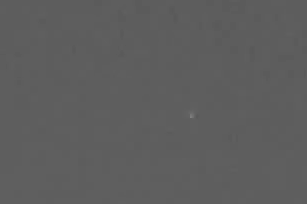Target: (190, 114, 192, 117)
